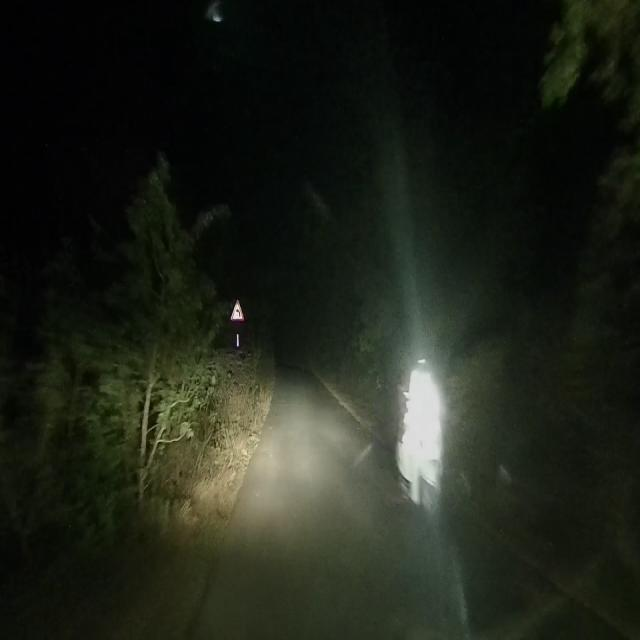left-hand-curve: (228, 301, 245, 322)
